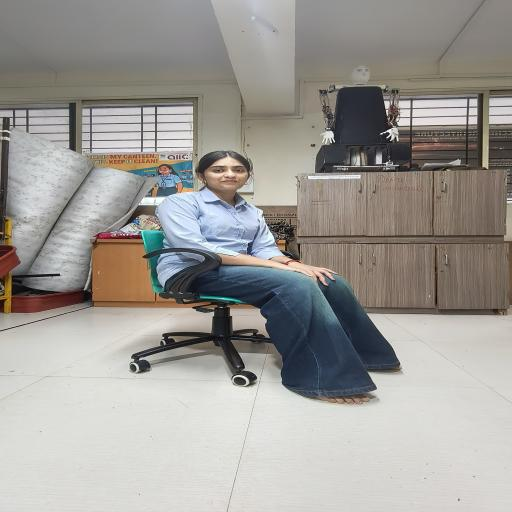survivor: (153, 150, 404, 405)
